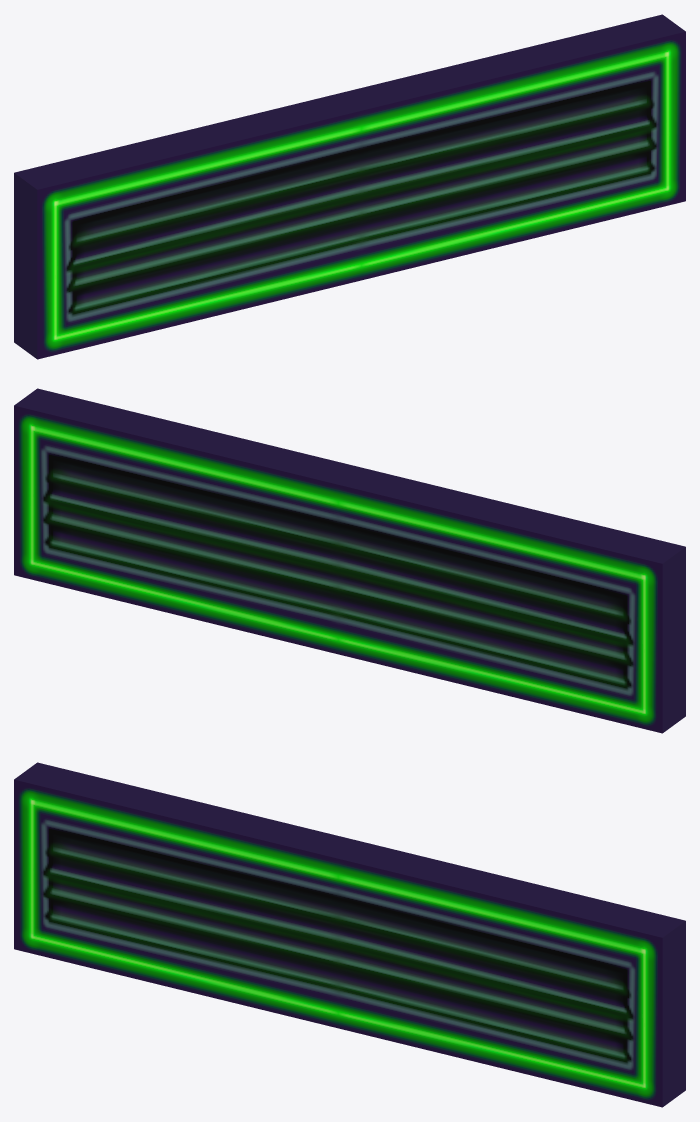
The model's file is urban_border_plank.gltf.
The picture shows the model from 3 angles, top to bottom: view 1: azimuth 30°, elevation 25°; view 2: azimuth 150°, elevation 25°; view 3: azimuth 330°, elevation 25°; orthographic projection.
Visible parts, largest first — view 1: urban_border_plank_glb; view 2: urban_border_plank_glb; view 3: urban_border_plank_glb.
Part boxes in pixels (x1=…): urban_border_plank_glb: x1=14, y1=14, x2=685, y2=359; urban_border_plank_glb: x1=14, y1=388, x2=685, y2=733; urban_border_plank_glb: x1=14, y1=762, x2=685, y2=1107.
Size of what is drawn, in the model's own units: 4 by 1 by 0.25.
1 material, 1 textured.
